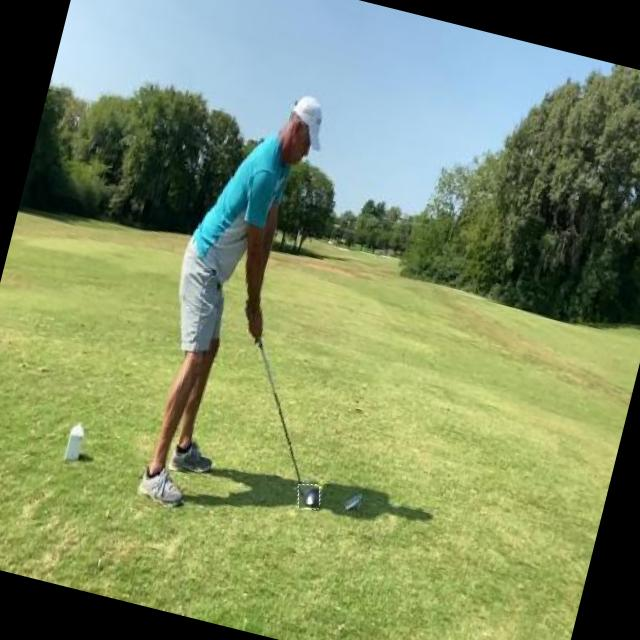club head: (294, 481, 323, 512)
